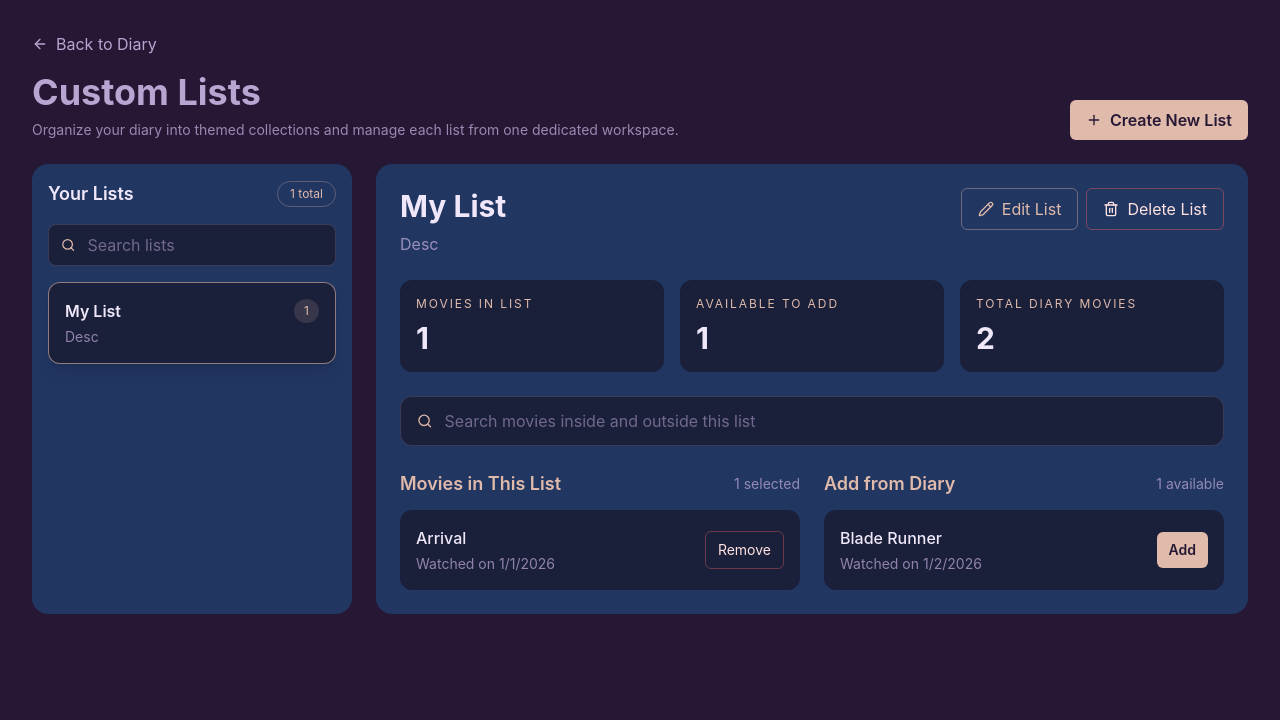
Scenario: CustomLists › filters the movie workspace using the movie search input
Type "blade" into the search field named "Search movies in list workspace" at (826, 421), box [444,409,1207,433]
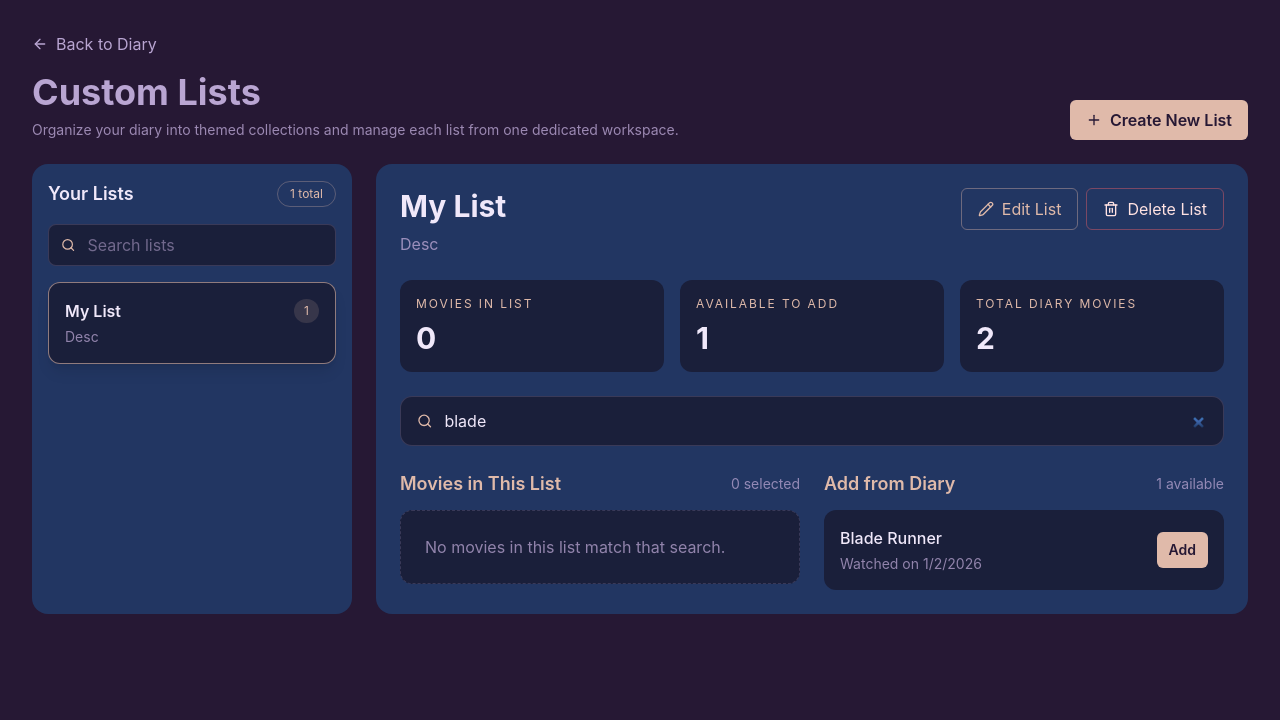
expect the text "Blade Runner" is shown: met, box [840,528,942,548]
expect the text "Arrival" is gone: met
